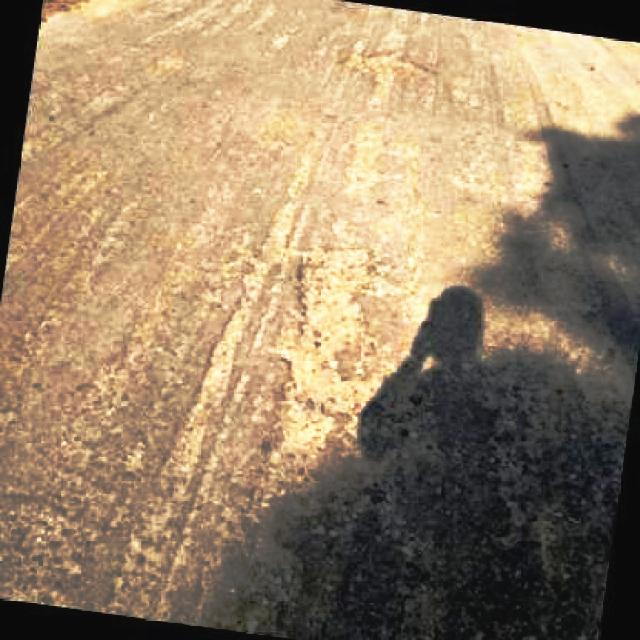pothole: (284, 244, 378, 450), (340, 42, 432, 89)
